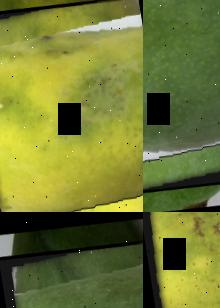PartiallyRipe: (0, 0, 143, 212), (143, 212, 220, 308)
Unripe: (143, 0, 220, 202), (0, 232, 143, 308)
